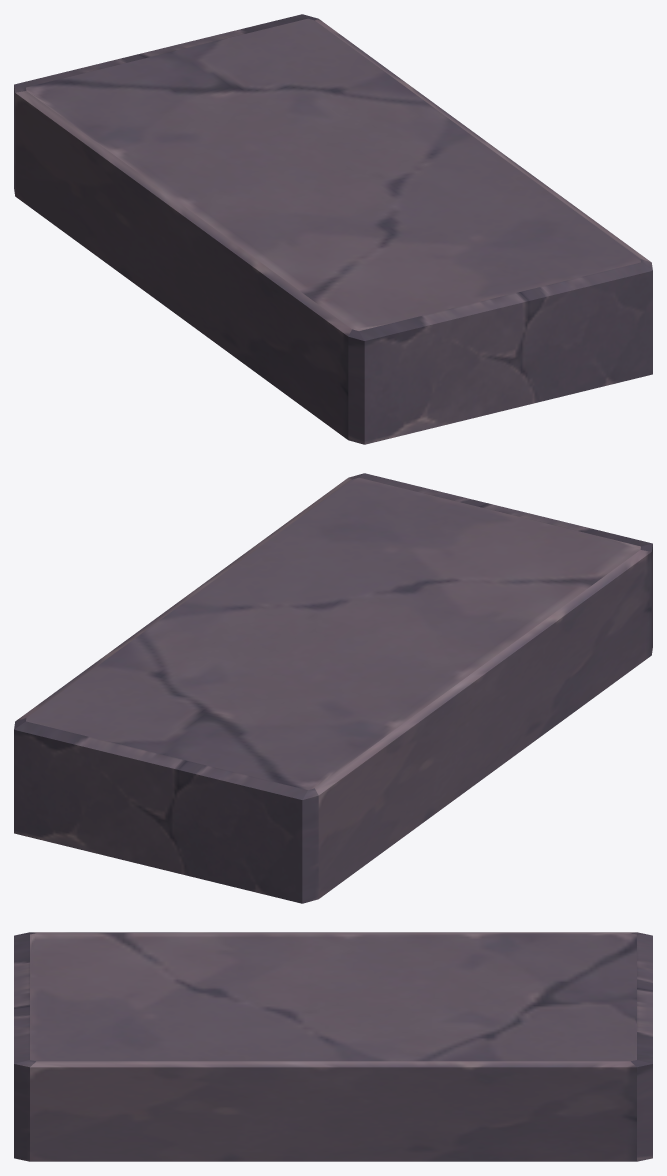
The model's file is Stone_brick_b.FBX.
The picture shows the model from 3 angles, top to bottom: view 1: azimuth 30°, elevation 25°; view 2: azimuth 150°, elevation 25°; view 3: azimuth 270°, elevation 25°; orthographic projection. The views are drawn at different scales.
Visible parts, largest first — view 1: Box008; view 2: Box008; view 3: Box008.
Part boxes in pixels (x1,y1,x2,y2): Box008: (14, 14, 652, 444); Box008: (14, 473, 652, 903); Box008: (14, 932, 652, 1161).
Size of the model in its own units: 1.75 by 0.6 by 3.49.
1 material, 1 textured.
